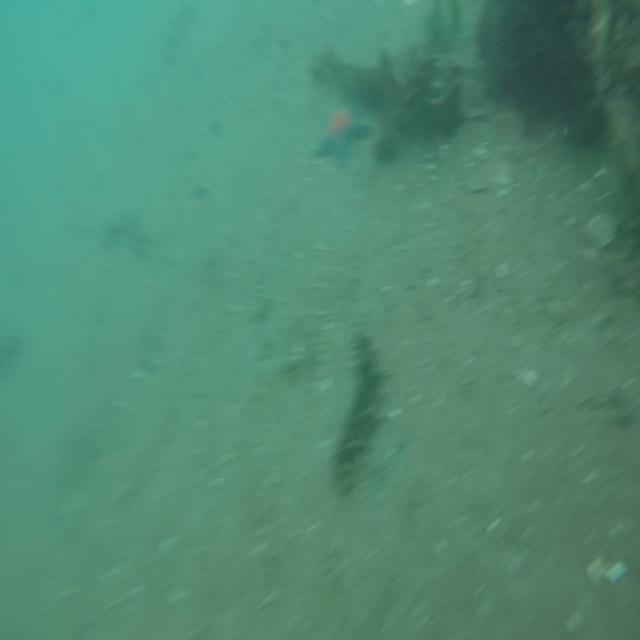holothurian: (326, 328, 388, 494)
starfish: (313, 98, 371, 167)
